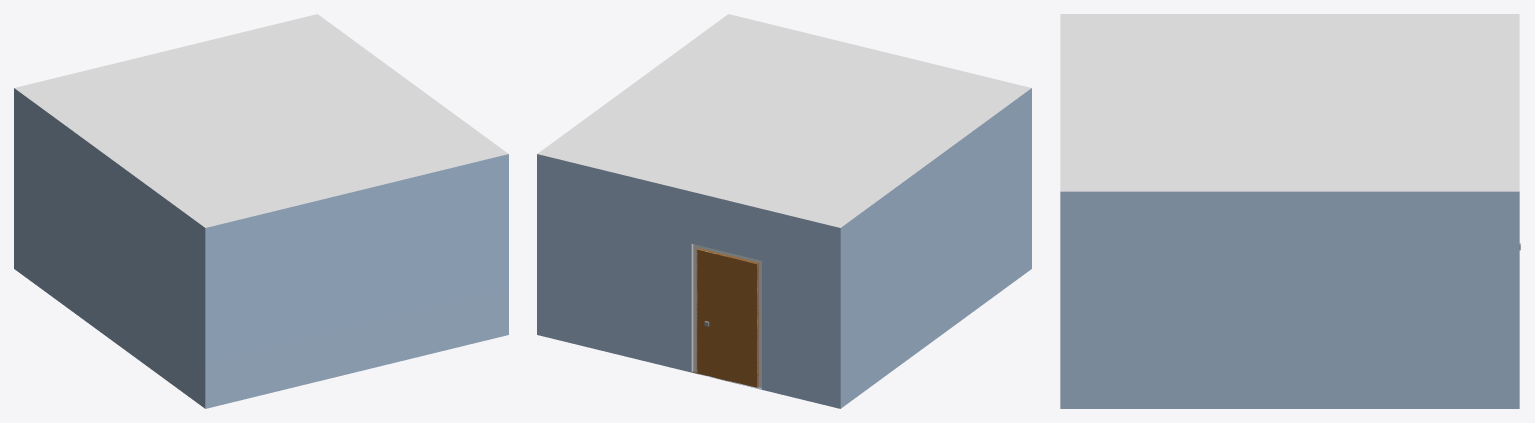
Rendered from Bedroom.fbx.
The picture shows the model from 3 angles, left to right: view 1: azimuth 30°, elevation 25°; view 2: azimuth 150°, elevation 25°; view 3: azimuth 270°, elevation 25°; orthographic projection. The views are drawn at different scales.
Parts seen in each view (by area): view 1: Room; view 2: Room; view 3: Room.
Part boxes in pixels (bbox=[...]): Room: bbox=[14, 14, 508, 408]; Room: bbox=[537, 14, 1031, 408]; Room: bbox=[1060, 14, 1520, 408].
Size of the model in its own units: 1049 by 598 by 1149.
Materials: 2 (2 with a texture image).
